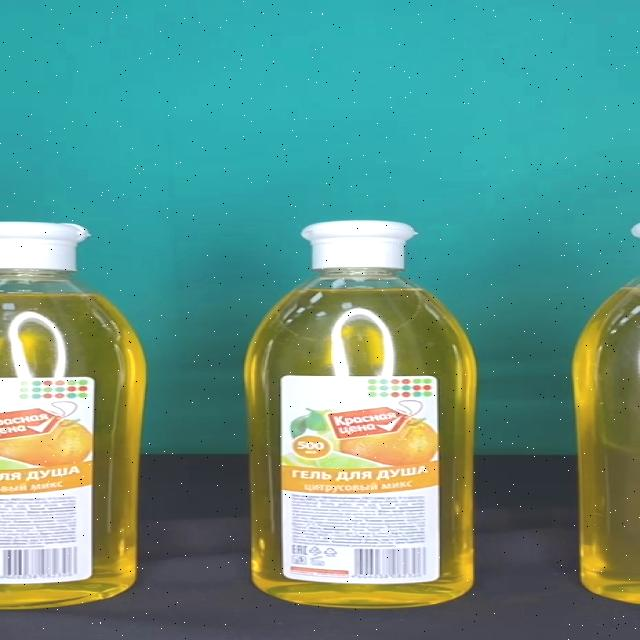Bottle: (243, 221, 480, 608)
Cap: (300, 222, 418, 268)
